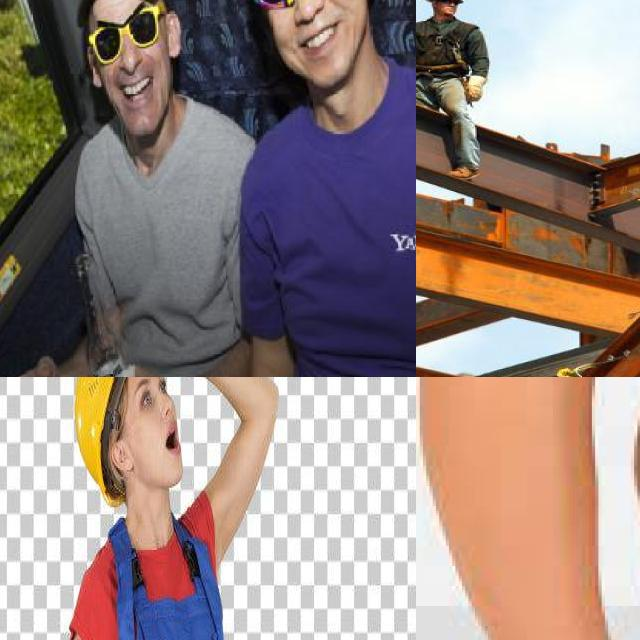Harness: (416, 19, 480, 85)
No_Ear-Protection: (108, 436, 138, 483)
No_Glasses: (132, 377, 171, 419)
face_nomask: (91, 19, 176, 116), (254, 0, 357, 58), (144, 401, 184, 485)
glasses: (77, 8, 166, 63)
hand_noglove: (0, 359, 79, 377), (75, 362, 155, 377)
head_helmet: (74, 377, 119, 505)
person: (42, 0, 255, 377), (219, 0, 416, 377)
